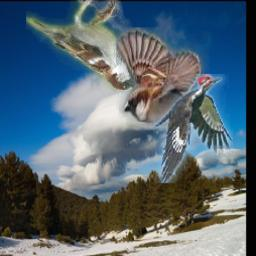Sparrow: (26, 0, 141, 91), (117, 28, 211, 127)
Woodpecker: (154, 74, 234, 183)
